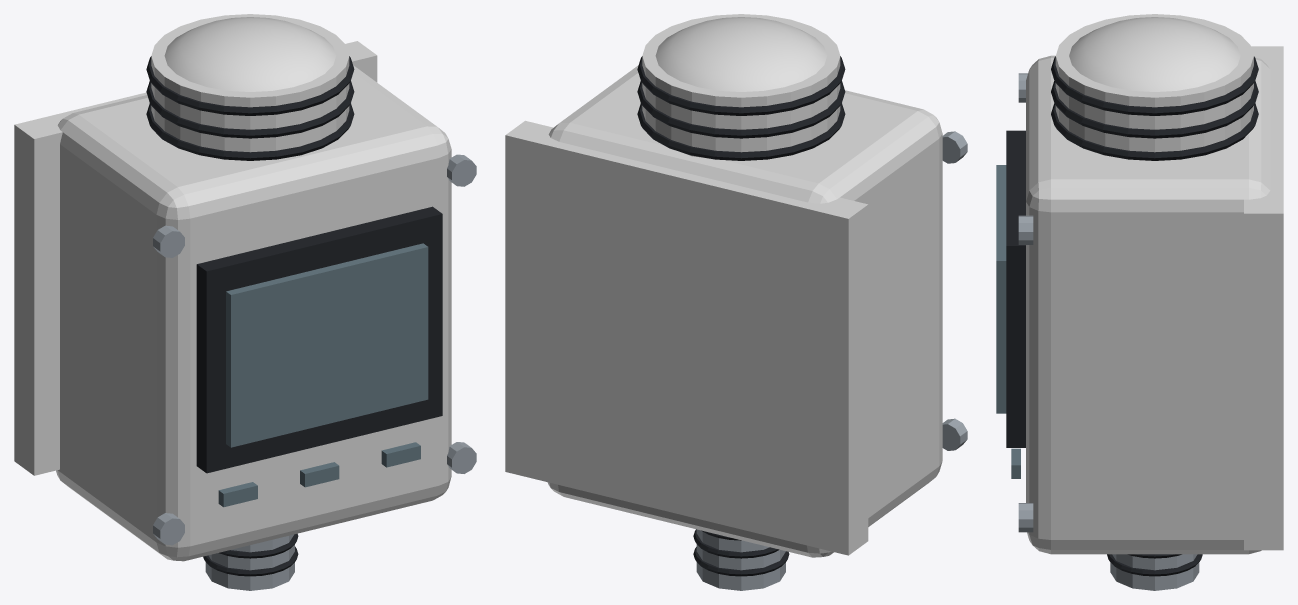
File: temperature-humidity-sensor.glb
The picture shows the model from 3 angles, left to right: view 1: azimuth 30°, elevation 25°; view 2: azimuth 150°, elevation 25°; view 3: azimuth 270°, elevation 25°; orthographic projection.
Parts seen in each view (by area): view 1: merged_white, merged_lens, merged_dark, merged_metal; view 2: merged_white, merged_dark, merged_metal; view 3: merged_white, merged_dark, merged_metal, merged_lens.
Part boxes in pixels (left/top/right/bottom): merged_white: left=14, top=14, right=451, bottom=561; merged_lens: left=218, top=243, right=428, bottom=507; merged_dark: left=146, top=56, right=442, bottom=576; merged_metal: left=153, top=154, right=476, bottom=590; merged_white: left=505, top=14, right=942, bottom=557; merged_dark: left=637, top=56, right=845, bottom=576; merged_metal: left=696, top=131, right=967, bottom=590; merged_white: left=1026, top=14, right=1283, bottom=554; merged_dark: left=1006, top=56, right=1258, bottom=576; merged_metal: left=1018, top=73, right=1199, bottom=590; merged_lens: left=996, top=165, right=1020, bottom=478.
Bounding box in the file's own units: 0.08 × 0.12 × 0.058.
